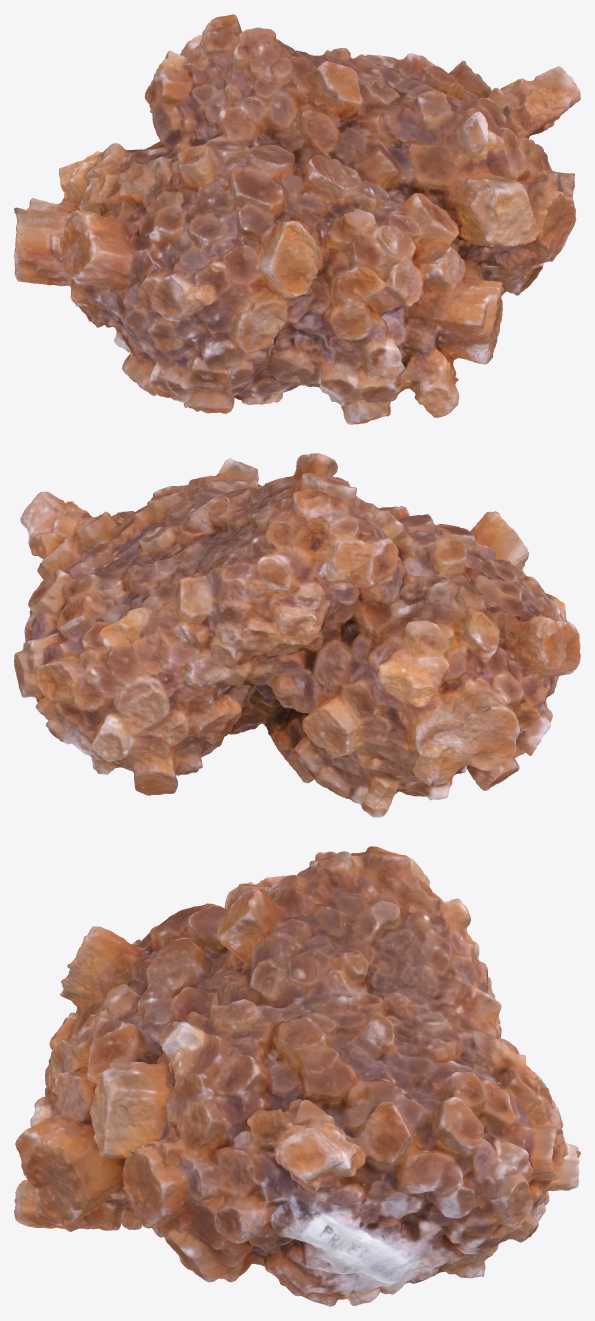
The model's file is aragonite.glb.
3 renders of one model, top to bottom at view 1: azimuth 30°, elevation 25°; view 2: azimuth 150°, elevation 25°; view 3: azimuth 270°, elevation 25°, orthographic. The views are drawn at different scales.
Visible parts, largest first — view 1: Object_2; view 2: Object_2; view 3: Object_2.
Boxes of the visible parts, bbox=[...] form: Object_2: bbox=[14, 14, 580, 424]; Object_2: bbox=[14, 453, 580, 817]; Object_2: bbox=[14, 846, 580, 1306].
Size of the model in its own units: 2.44 by 1.46 by 1.98.
Materials: 1 (1 with a texture image).
